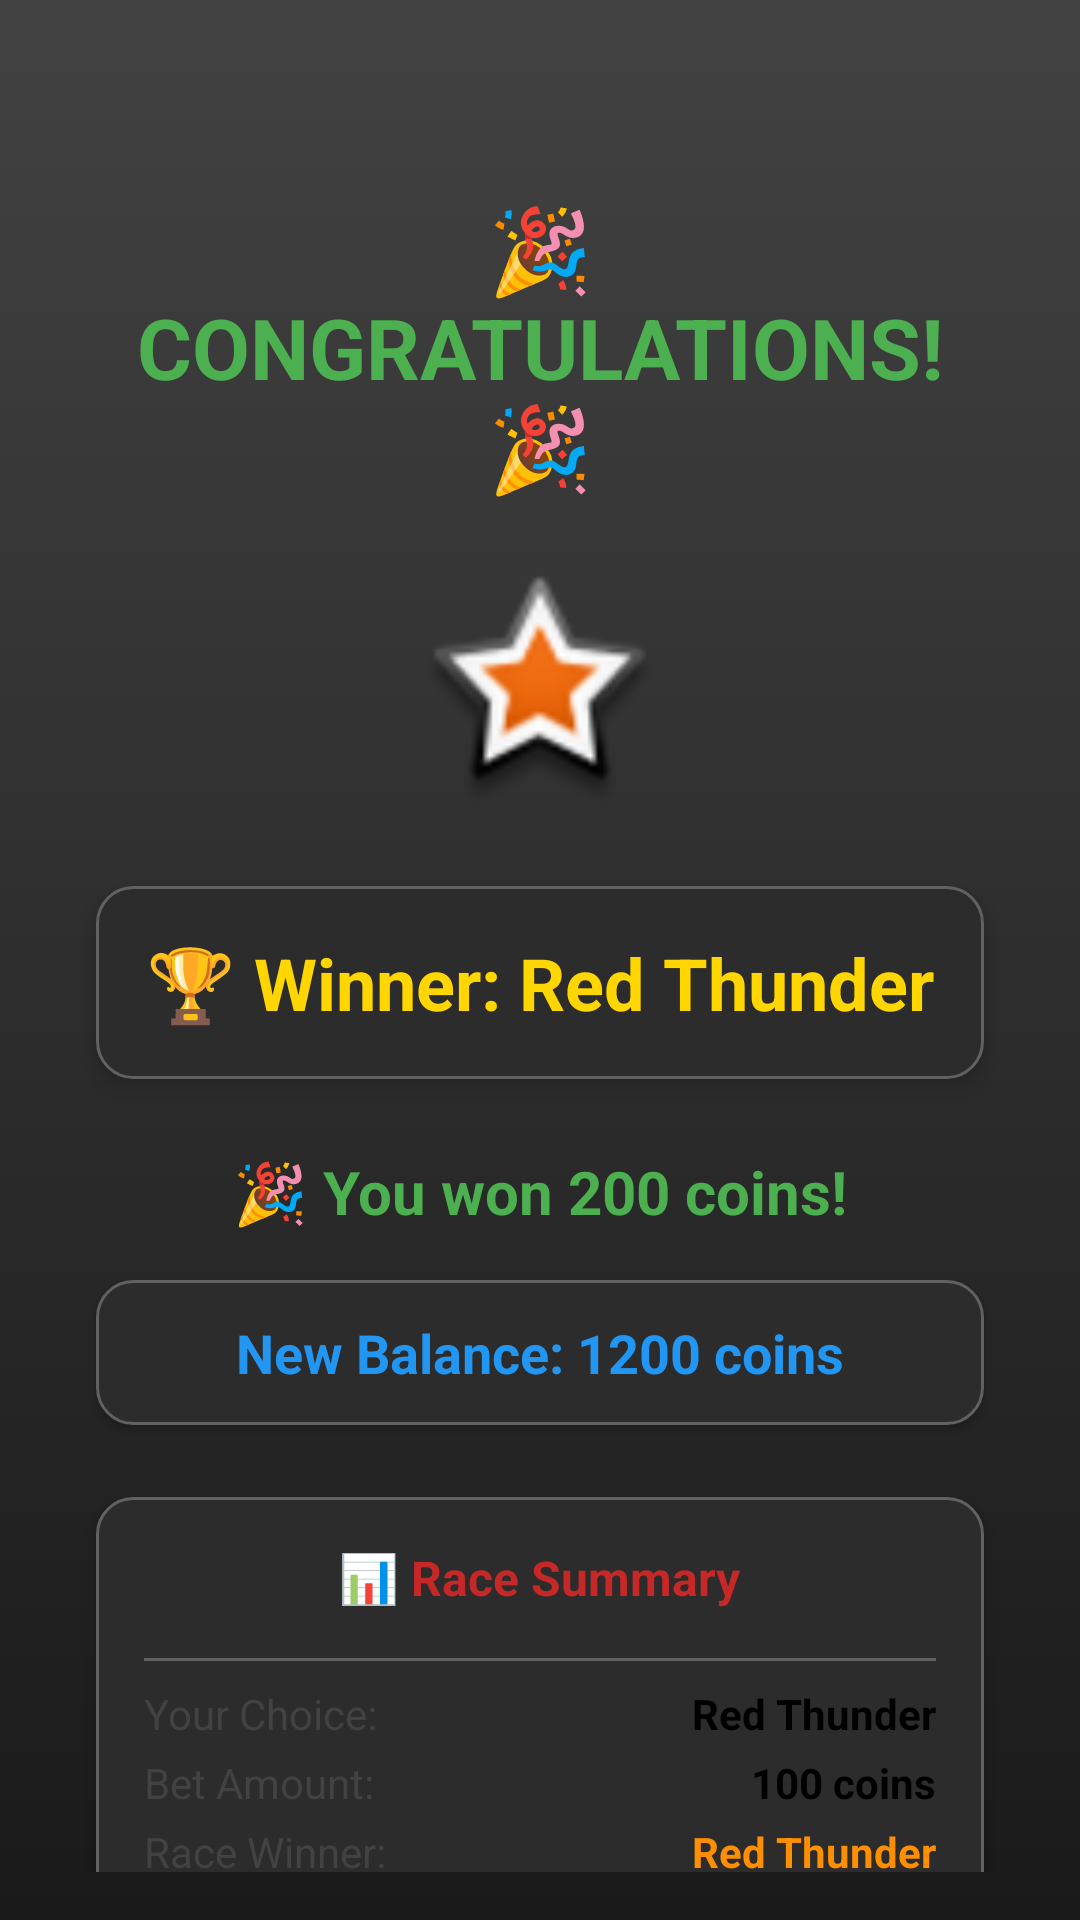

Where to tap for icons on this 1080w x 1920h app screen, as (x=x, y=y):
star on: (x=538, y=678)
